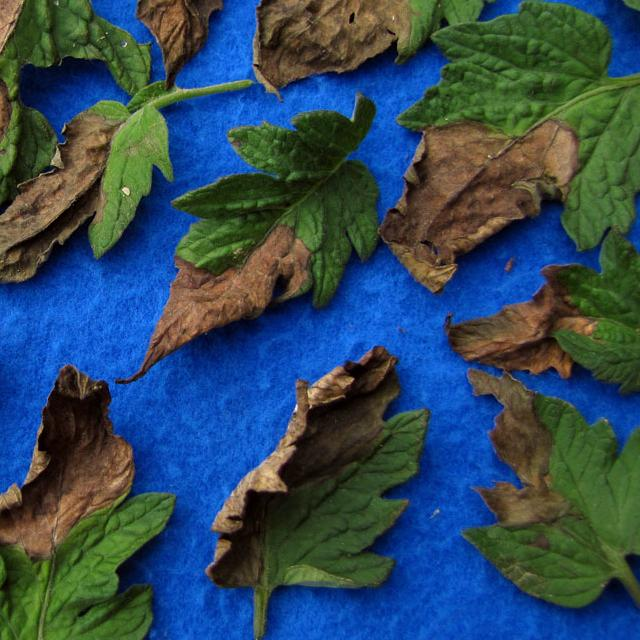Tomato leaf late blight: (193, 338, 434, 619), (142, 105, 393, 348), (466, 366, 640, 630), (0, 372, 171, 640), (0, 88, 215, 292), (439, 256, 640, 386), (250, 0, 553, 86), (0, 0, 82, 300), (0, 311, 30, 536)
